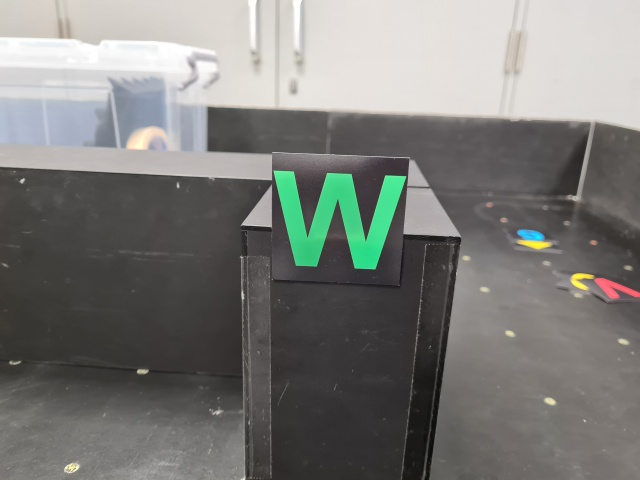alphabet_w: (270, 151, 411, 288)
